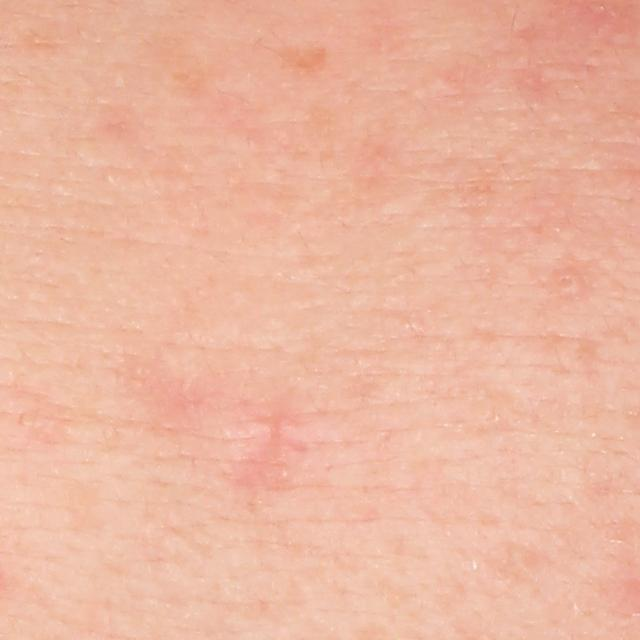comedo: (556, 268, 587, 299)
